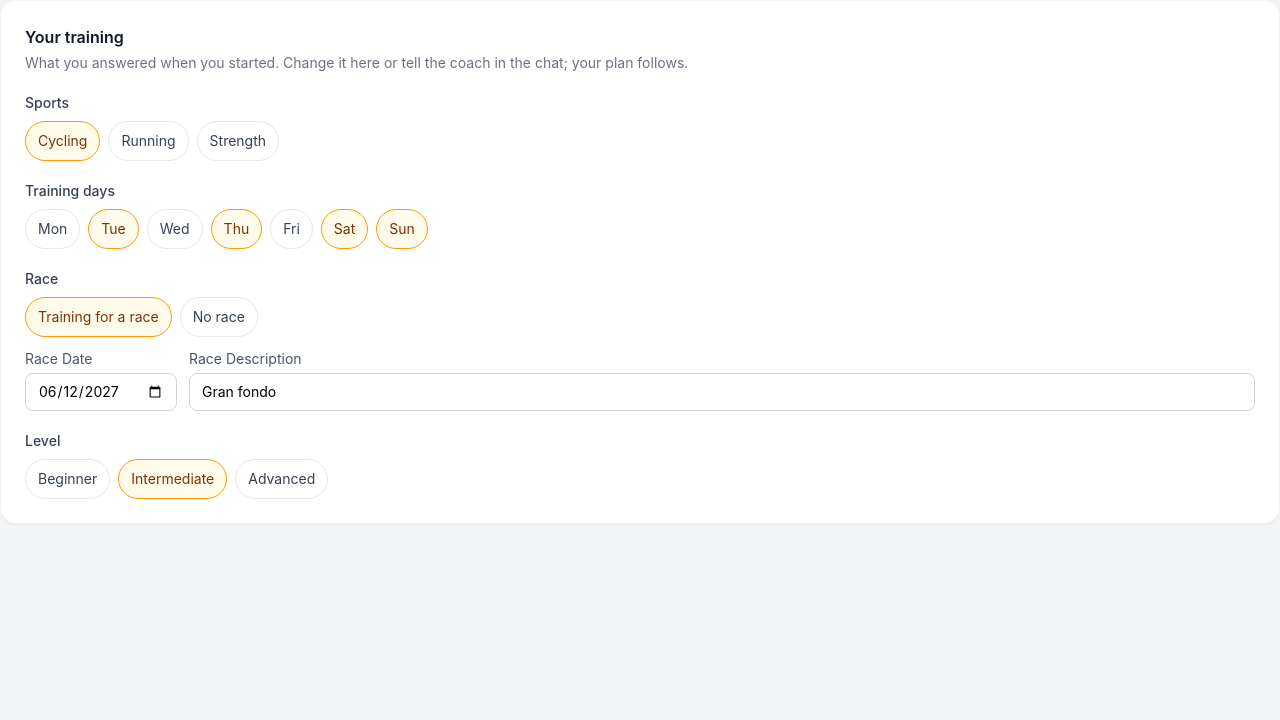
TrainingAnswersSettings (ai-trainer-ops#202) › clears the race the way the chat's "no race" does
Check: the date field labelled "Race Date" holds "2027-06-12", box top-left (25, 373), bottom-right (177, 411)
Step 1. Click the button "No race" → (219, 317), box top-left (180, 297), bottom-right (258, 337)
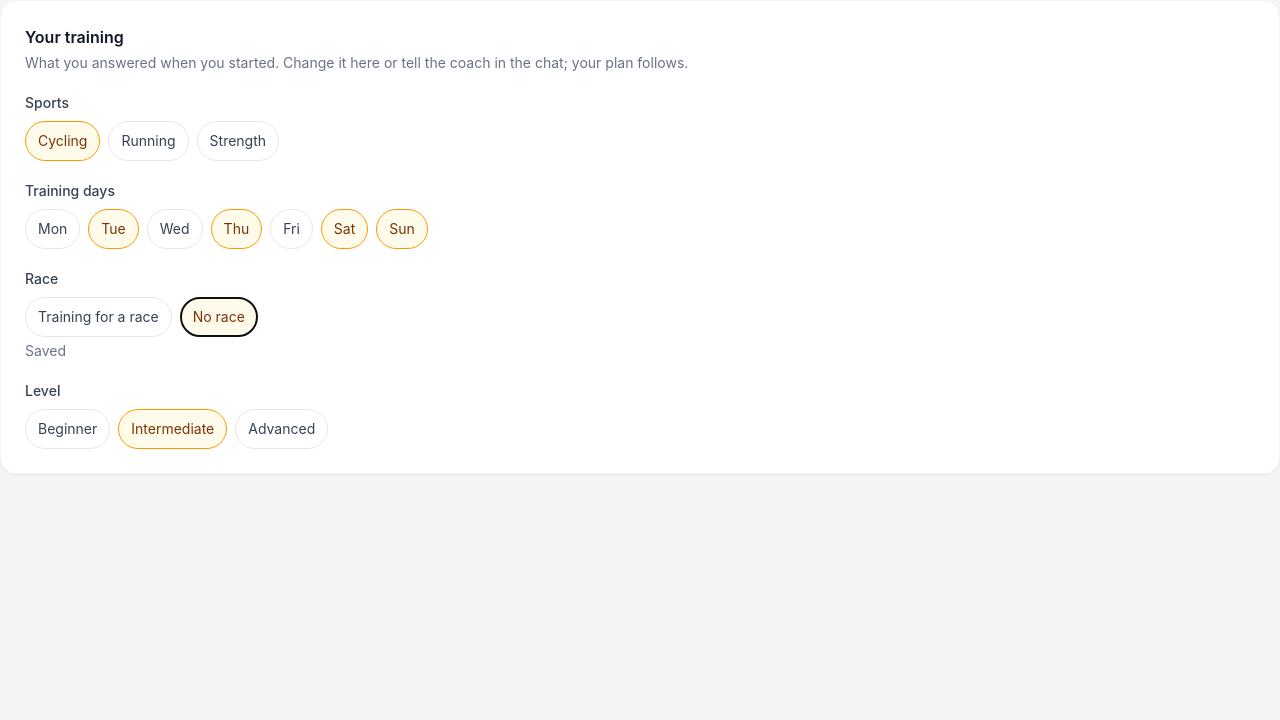
Check: the label labelled "Race Date" is gone
